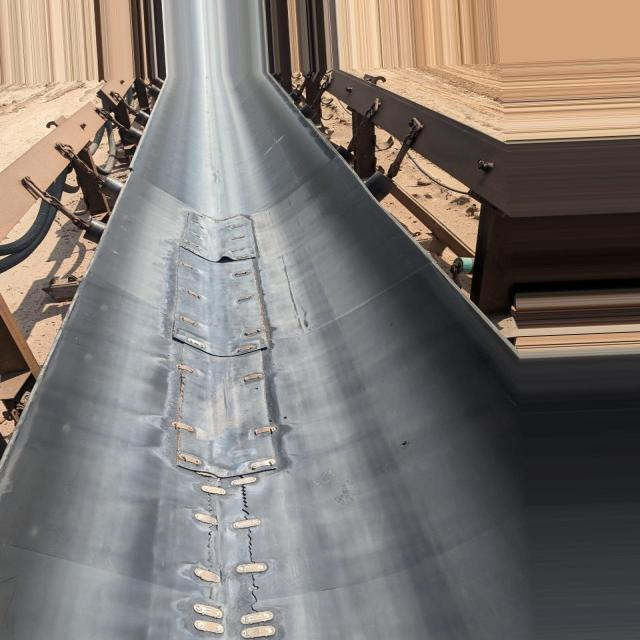patch work: (156, 208, 284, 637)
